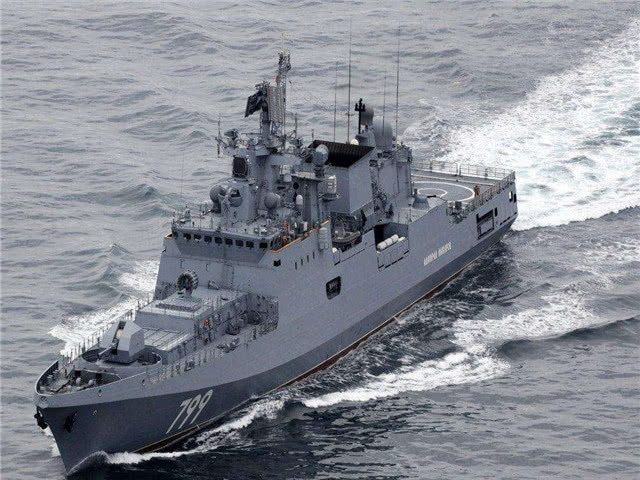warship: (37, 30, 522, 479)
